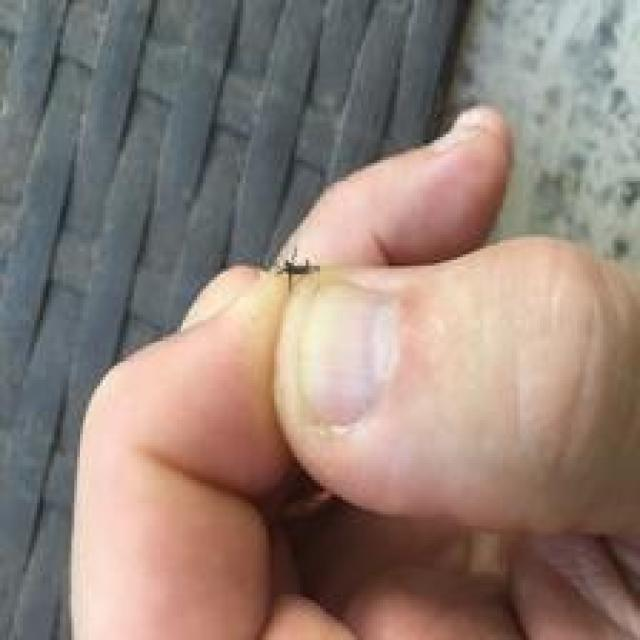Aedes albopictus: (271, 246, 320, 294)
